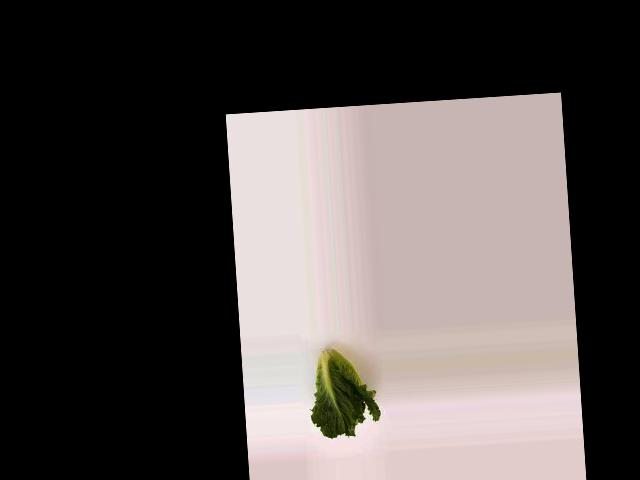lettuce: (302, 333, 382, 455)
